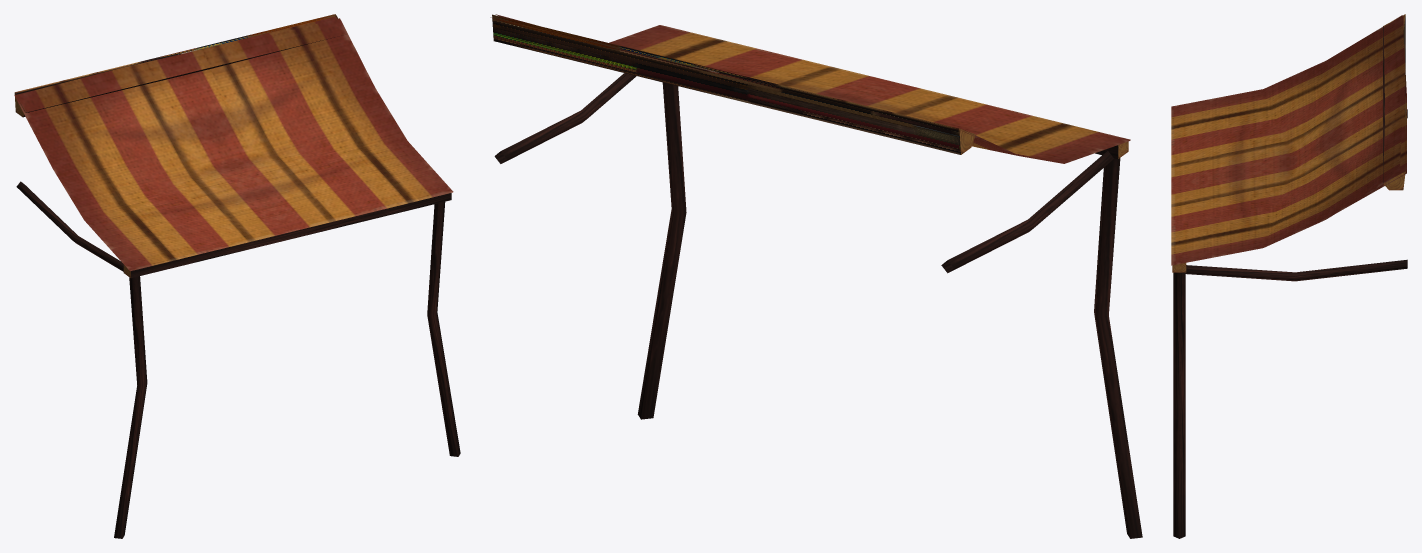
File: Sunblind_01.fbx
3 views of the same model, side by side, from view 1: azimuth 30°, elevation 25°; view 2: azimuth 150°, elevation 25°; view 3: azimuth 270°, elevation 25° (orthographic). The views are drawn at different scales.
Visible parts, largest first — view 1: Sunblind_01; view 2: Sunblind_01; view 3: Sunblind_01.
Boxes of the visible parts, bbox=[...] form: Sunblind_01: bbox=[14, 14, 460, 538]; Sunblind_01: bbox=[490, 14, 1142, 538]; Sunblind_01: bbox=[1171, 14, 1407, 538].
Bounding box in the file's own units: 0.5264 × 0.5223 × 0.3094.
